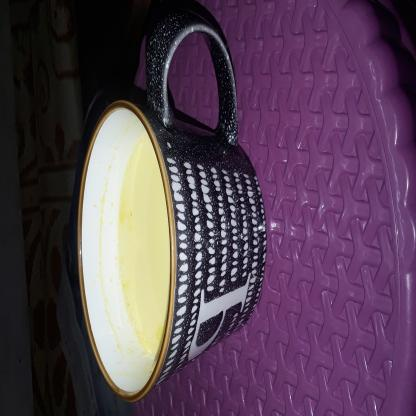cup: (6, 1, 229, 280)
